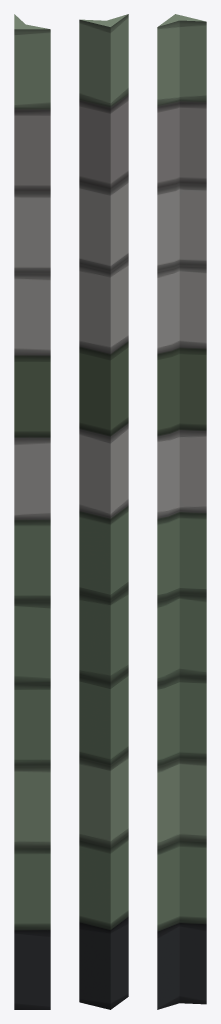
Rendered from SM_Bld_Wall_Pillar_Rounded_02.fbx.
3 renders of one model, left to right at view 1: azimuth 90°, elevation 25°; view 2: azimuth 150°, elevation 25°; view 3: azimuth 330°, elevation 25°, orthographic.
Parts seen in each view (by area): view 1: SM_Bld_Wall_Pillar_Rounded_02; view 2: SM_Bld_Wall_Pillar_Rounded_02; view 3: SM_Bld_Wall_Pillar_Rounded_02.
Part boxes in pixels (x1,y1,x2,y2): SM_Bld_Wall_Pillar_Rounded_02: (14,14,50,1009); SM_Bld_Wall_Pillar_Rounded_02: (79,14,128,1009); SM_Bld_Wall_Pillar_Rounded_02: (157,14,206,1009).
Bounding box in the file's own units: 10 × 300 × 10.
